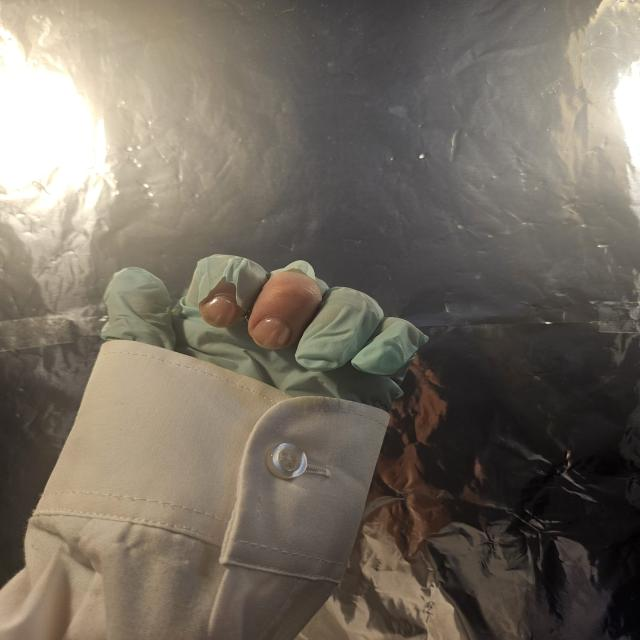gloves_damaged: (98, 251, 438, 415)
